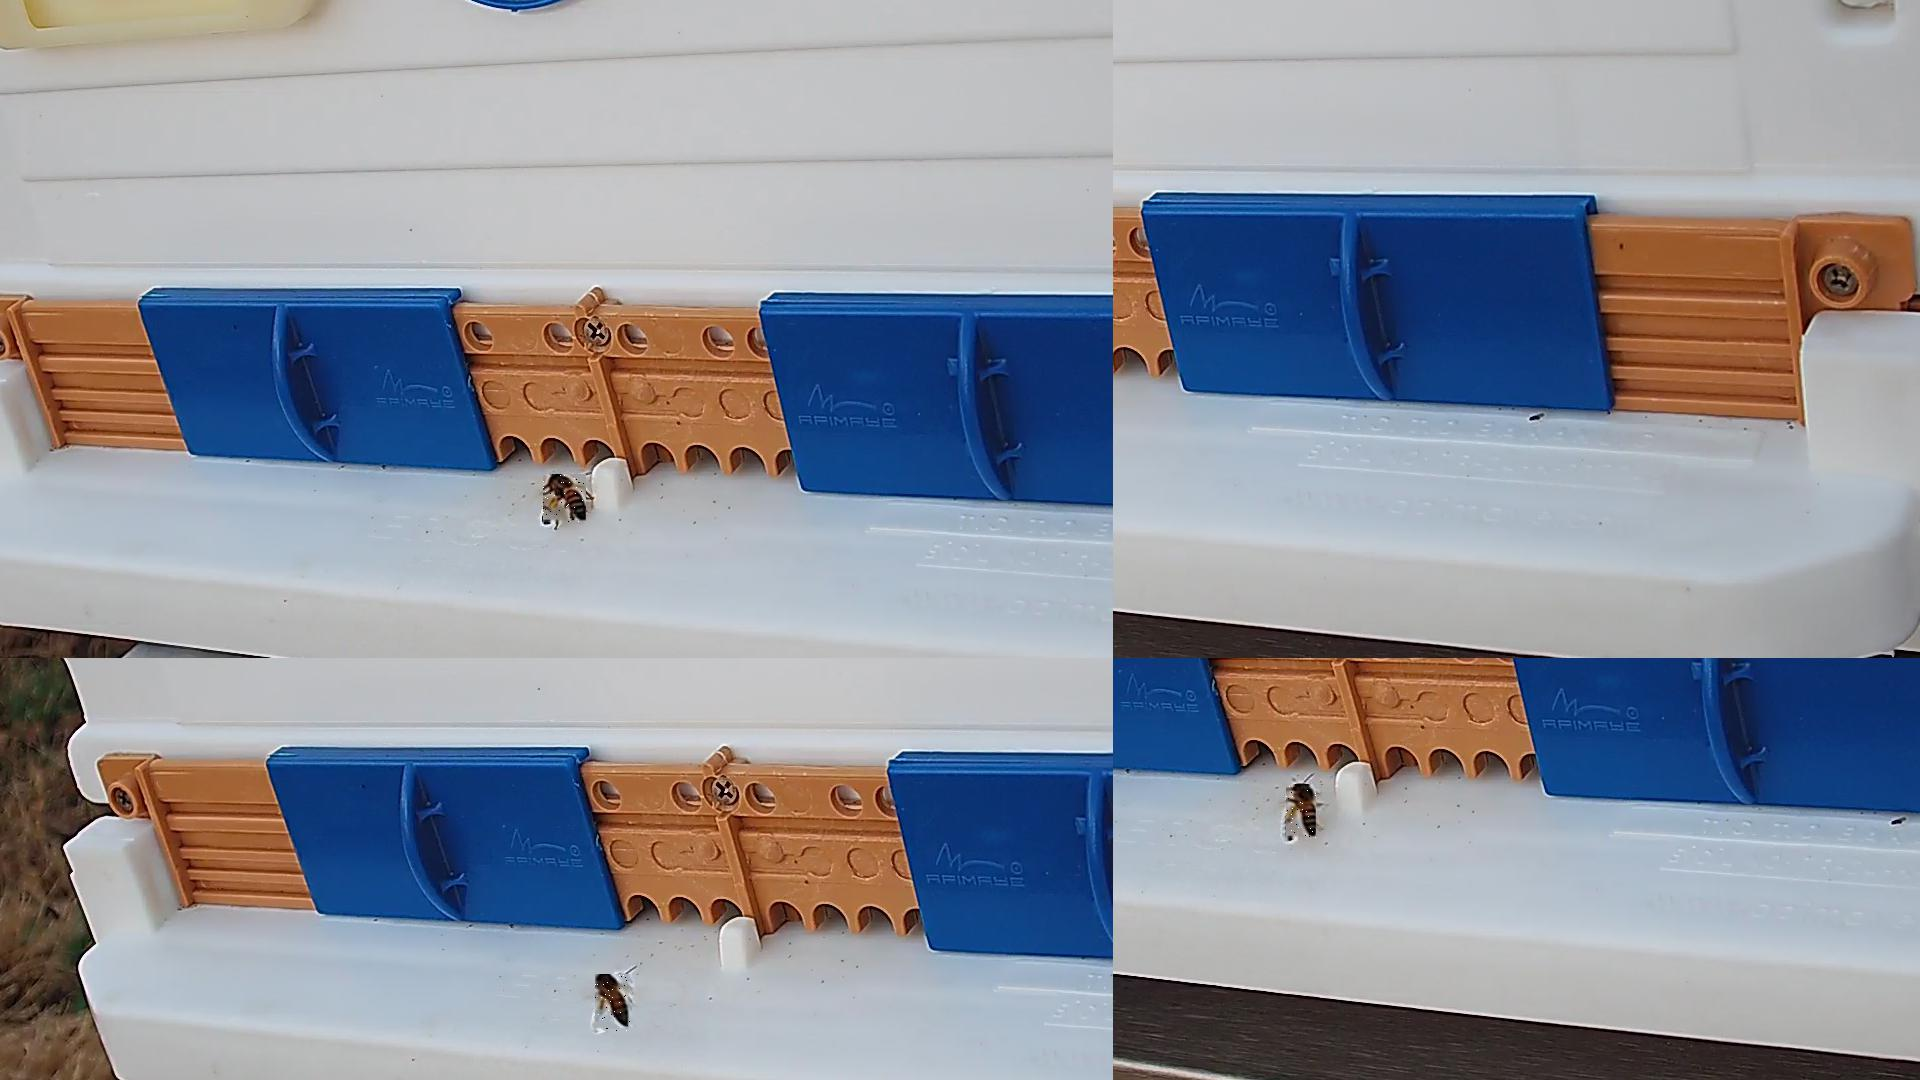pollenbee: (543, 475, 587, 525), (596, 975, 633, 1033), (1286, 785, 1317, 841)
